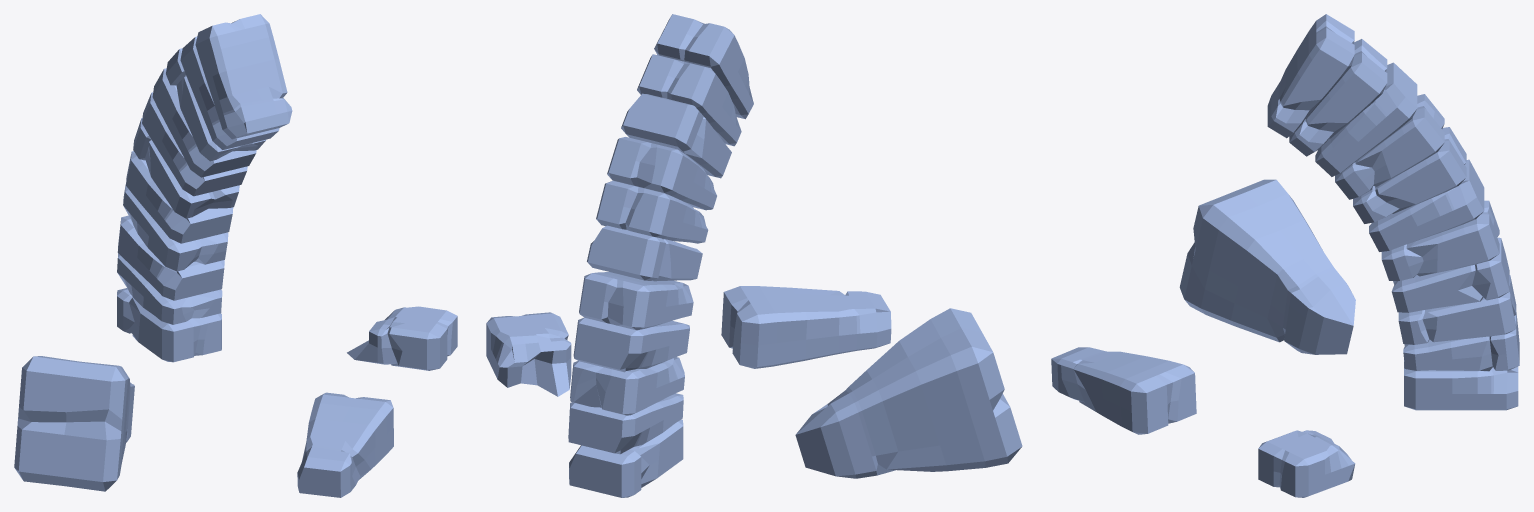
Rendered from Vampire_Assets_ArcHalf.fbx.
The picture shows the model from 3 angles, left to right: view 1: azimuth 30°, elevation 25°; view 2: azimuth 150°, elevation 25°; view 3: azimuth 270°, elevation 25°; orthographic projection. The views are drawn at different scales.
Parts seen in each view (by area): view 1: Cube.036; view 2: Cube.036; view 3: Cube.036.
Part boxes in pixels (left/top/right/bottom): Cube.036: left=14, top=14, right=457, bottom=497; Cube.036: left=486, top=14, right=1022, bottom=497; Cube.036: left=1051, top=14, right=1519, bottom=497.
Size of the model in its own units: 1665 by 1316 by 1440.
